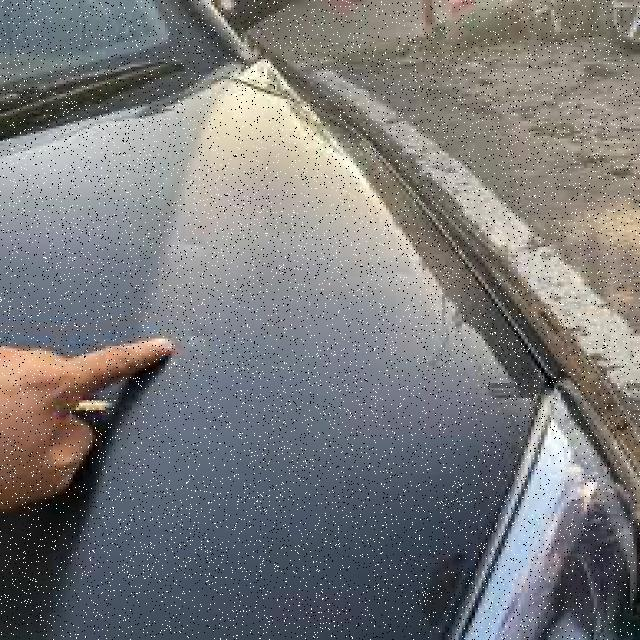bonnet-dent: (0, 27, 601, 555)
